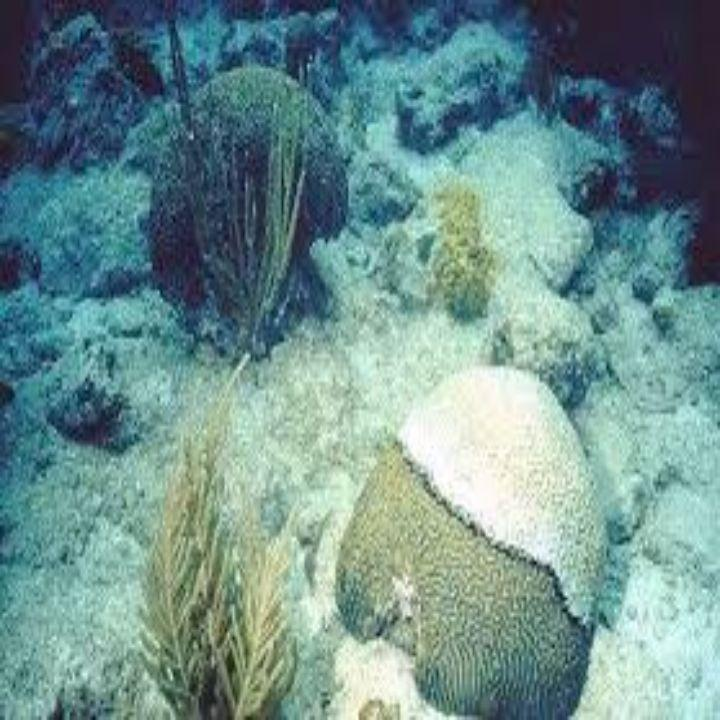Band disease: (297, 307, 699, 620), (382, 330, 687, 636)
